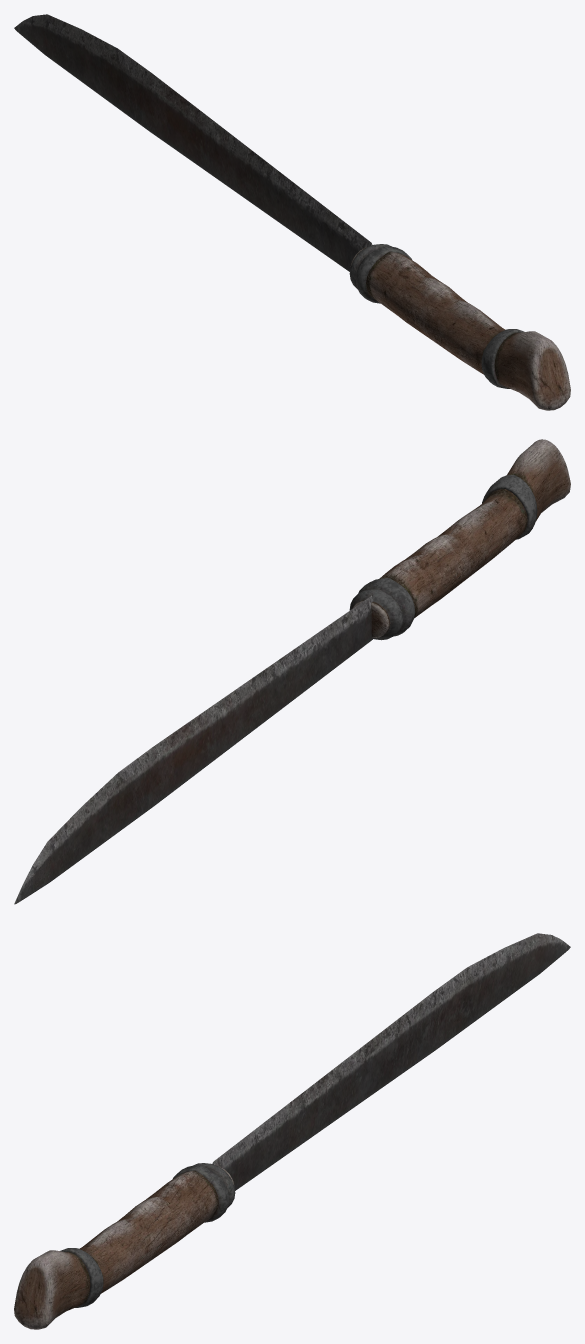
Rendered from knife.glb.
3 renders of one model, top to bottom at view 1: azimuth 30°, elevation 25°; view 2: azimuth 150°, elevation 25°; view 3: azimuth 330°, elevation 25°, orthographic.
Parts seen in each view (by area): view 1: weapon; view 2: weapon; view 3: weapon.
Boxes of the visible parts, x1,y1,x2,y2 form: weapon: [14, 14, 570, 410]; weapon: [14, 439, 570, 904]; weapon: [14, 933, 570, 1329].
Bounding box in the file's own units: 0.0382 × 0.0526 × 0.65.
1 material, 1 textured.
